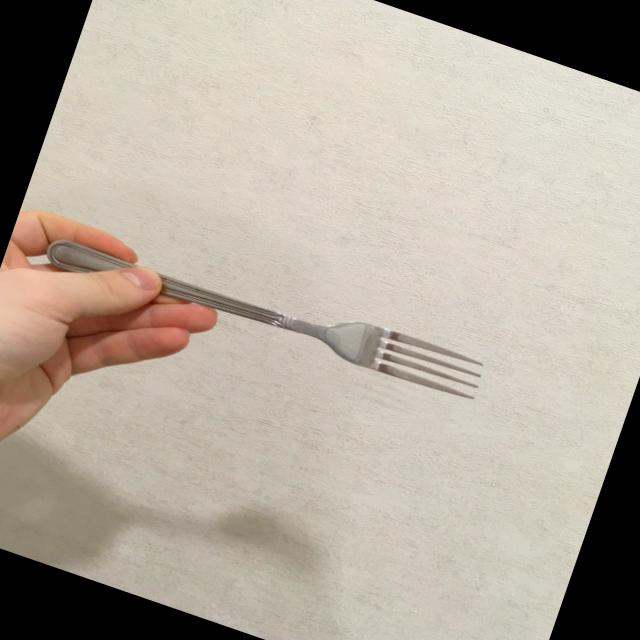fork: (43, 216, 488, 407)
